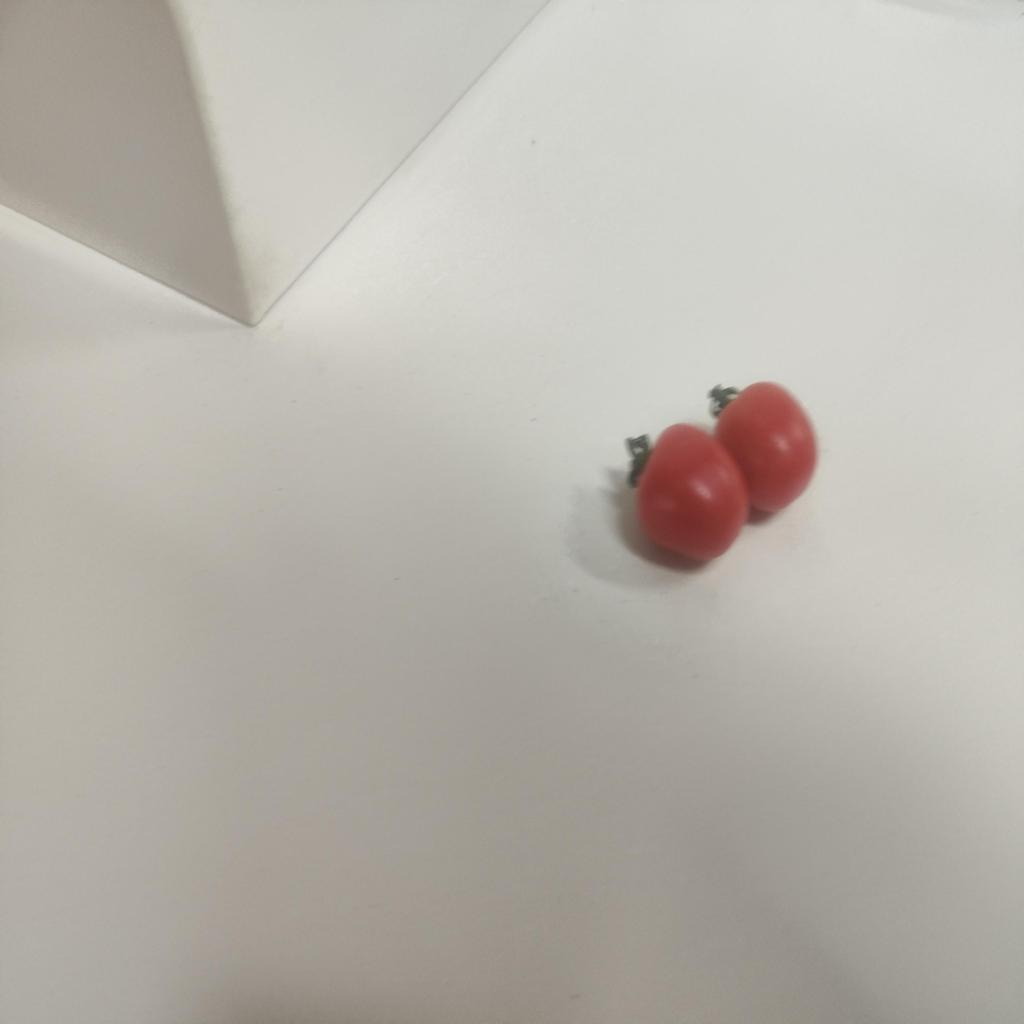tomato: (701, 363, 836, 519), (621, 417, 754, 574)
